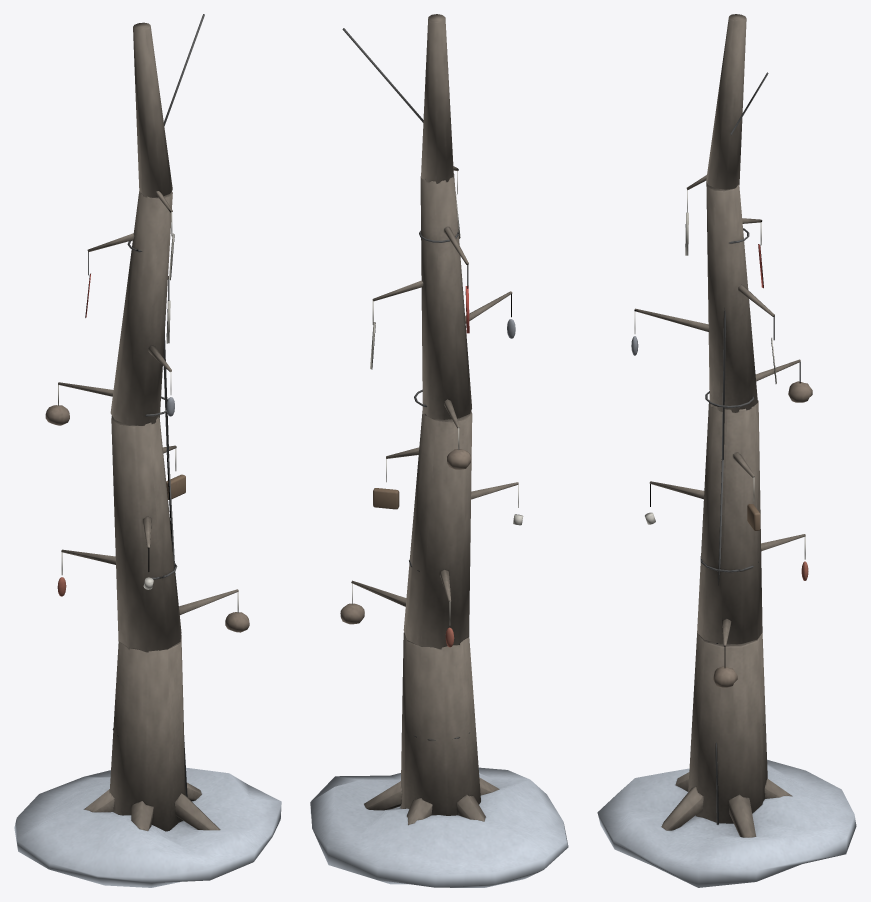
File: dead_larch.glb
The picture shows the model from 3 angles, left to right: view 1: azimuth 30°, elevation 25°; view 2: azimuth 150°, elevation 25°; view 3: azimuth 270°, elevation 25°; orthographic projection.
Visible parts, largest first — view 1: dead_larch; view 2: dead_larch; view 3: dead_larch.
Boxes of the visible parts, <box> form: dead_larch: <box>14,14,281,887</box>; dead_larch: <box>310,14,568,887</box>; dead_larch: <box>597,14,856,887</box>.
Size of the model in its own units: 2.75 by 9.24 by 2.6.
1 material, 1 textured.
